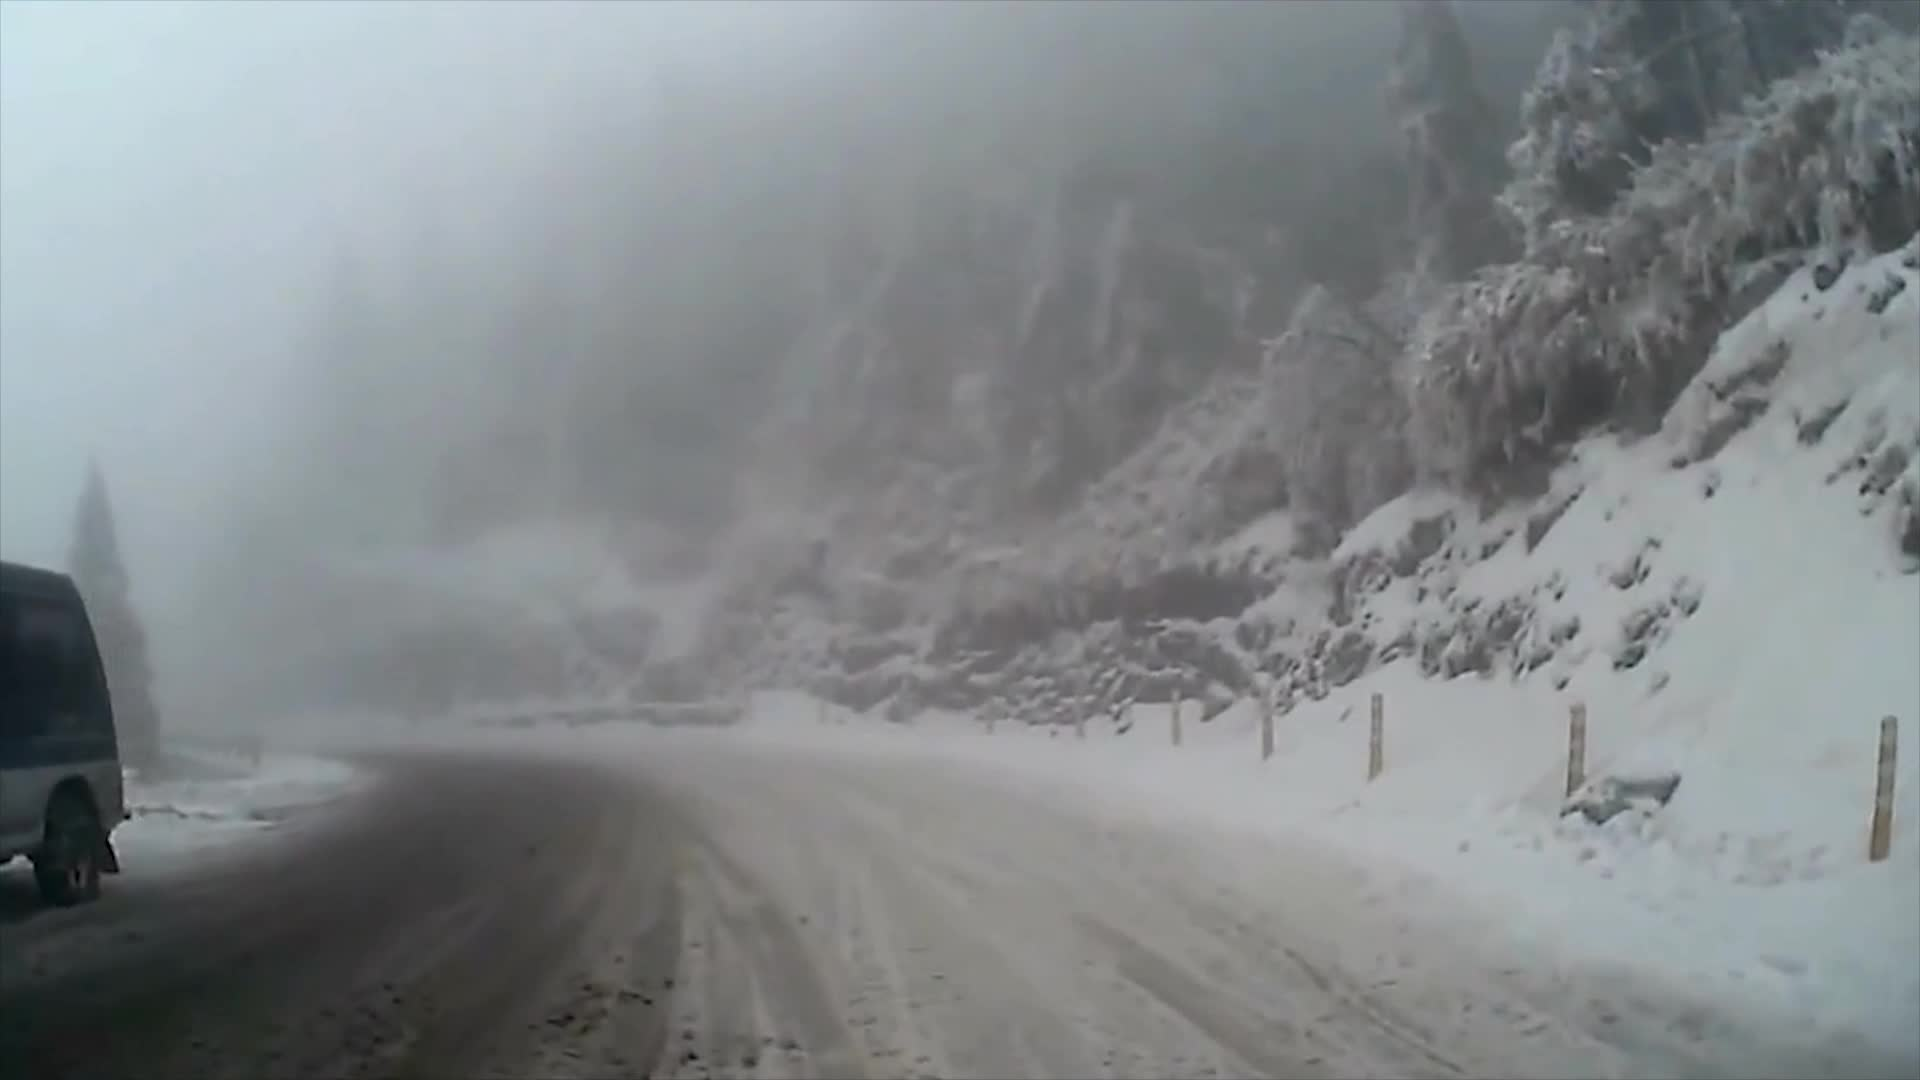vehicle: (0, 556, 136, 911)
